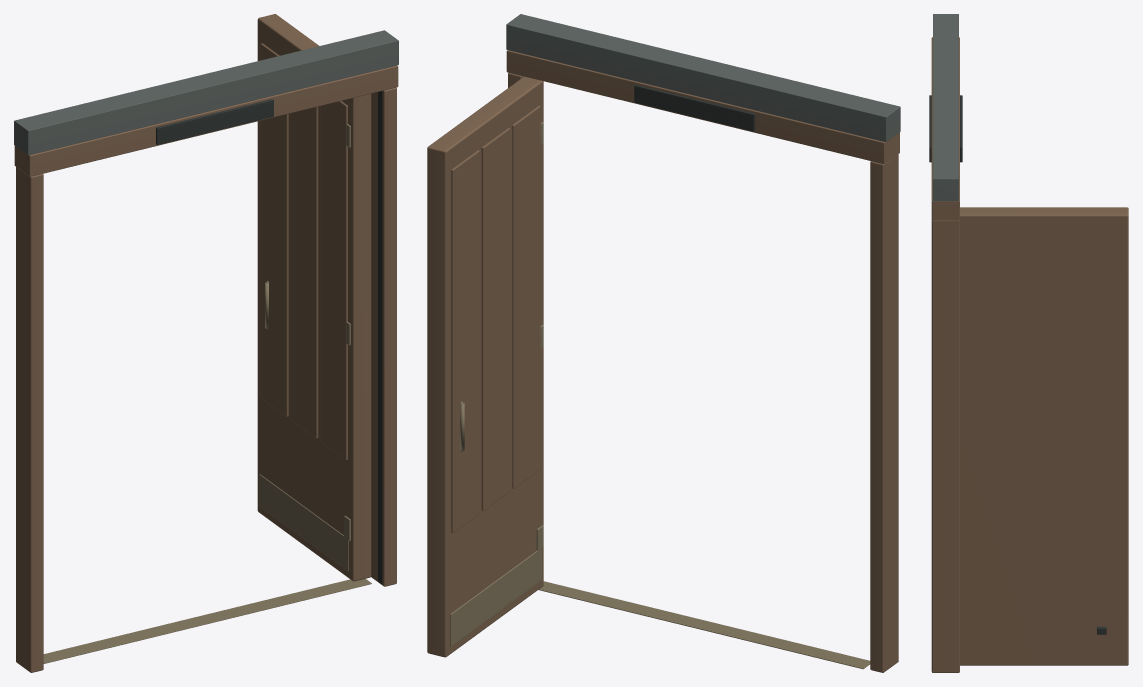
Rendered from acoustic-entry.glb.
The picture shows the model from 3 angles, left to right: view 1: azimuth 30°, elevation 25°; view 2: azimuth 150°, elevation 25°; view 3: azimuth 270°, elevation 25°; orthographic projection. The views are drawn at different scales.
Visible parts, largest first — view 1: Entry | smoked walnut, Entry | charcoal plaster, Entry | patinated bronze, Entry | blackened steel; view 2: Entry | smoked walnut, Entry | charcoal plaster, Entry | patinated bronze, Entry | blackened steel; view 3: Entry | smoked walnut, Entry | charcoal plaster, Entry | blackened steel.
Part boxes in pixels (x1,y1,x2,y2): Entry | smoked walnut: [14, 14, 398, 672]; Entry | charcoal plaster: [14, 30, 398, 155]; Entry | patinated bronze: [43, 124, 371, 663]; Entry | blackened steel: [156, 91, 382, 584]; Entry | smoked walnut: [427, 50, 899, 672]; Entry | charcoal plaster: [506, 14, 900, 142]; Entry | patinated bronze: [450, 122, 870, 669]; Entry | blackened steel: [634, 84, 755, 131]; Entry | smoked walnut: [931, 37, 1128, 672]; Entry | charcoal plaster: [933, 14, 958, 201]; Entry | blackened steel: [929, 95, 1106, 634].
Bounding box in the file's own units: 1.8 × 2.52 × 0.922.
